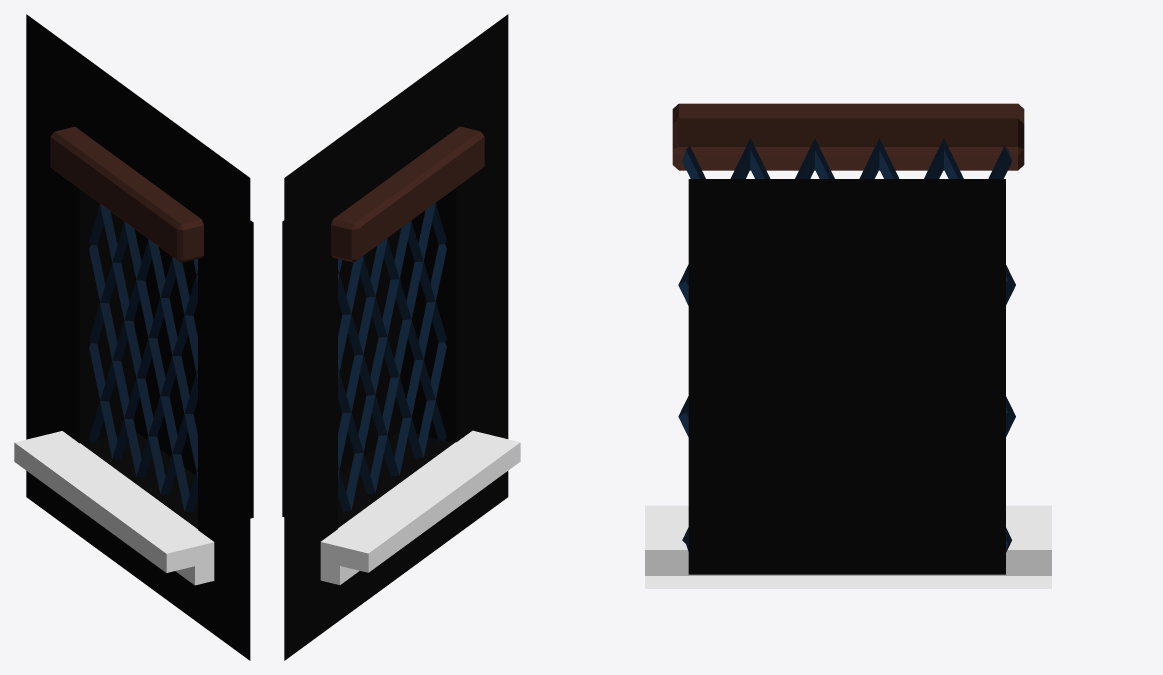
Rendered from standard_window_10.FBX.
The picture shows the model from 3 angles, left to right: view 1: azimuth 30°, elevation 25°; view 2: azimuth 150°, elevation 25°; view 3: azimuth 270°, elevation 25°; orthographic projection. The views are drawn at different scales.
Parts seen in each view (by area): view 1: standard_window_10; view 2: standard_window_10; view 3: standard_window_10.
Part boxes in pixels (x1=…): standard_window_10: x1=14, y1=14, x2=253, y2=660; standard_window_10: x1=282, y1=14, x2=520, y2=660; standard_window_10: x1=645, y1=103, x2=1051, y2=588.
Bounding box in the file's own units: 55.95 × 250 × 210.
